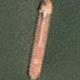ship: (0, 0, 18, 40)
